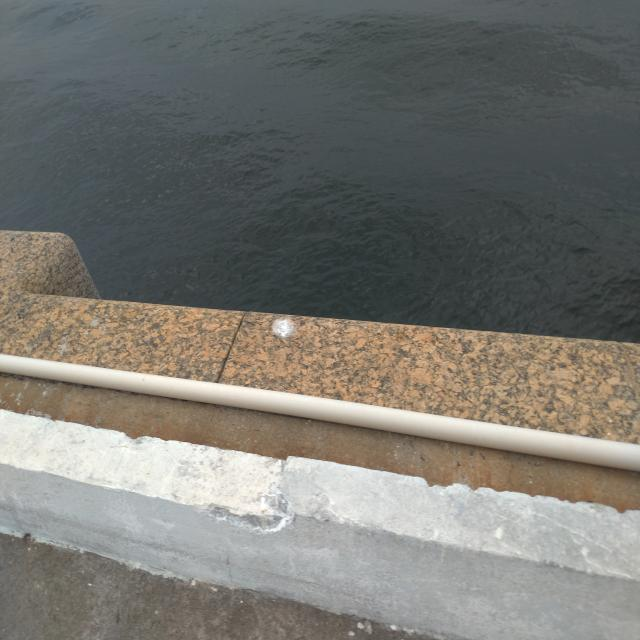gas: (2, 351, 639, 470)
